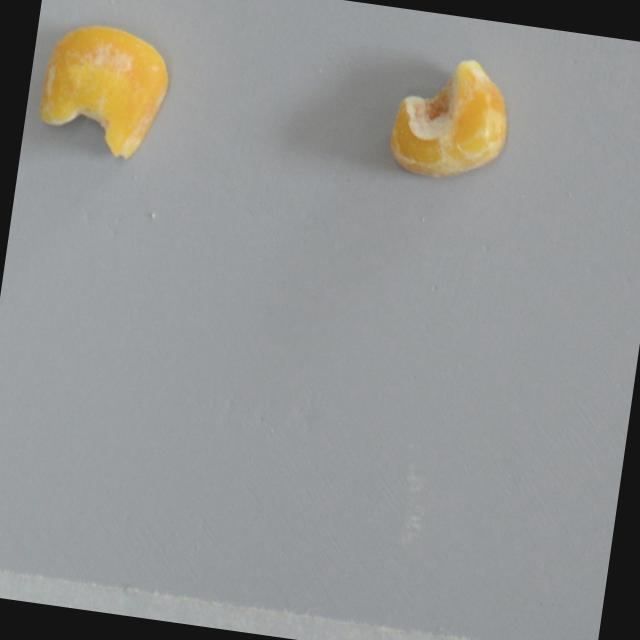dañado: (374, 41, 526, 192)
punto_negro: (29, 14, 177, 169)
